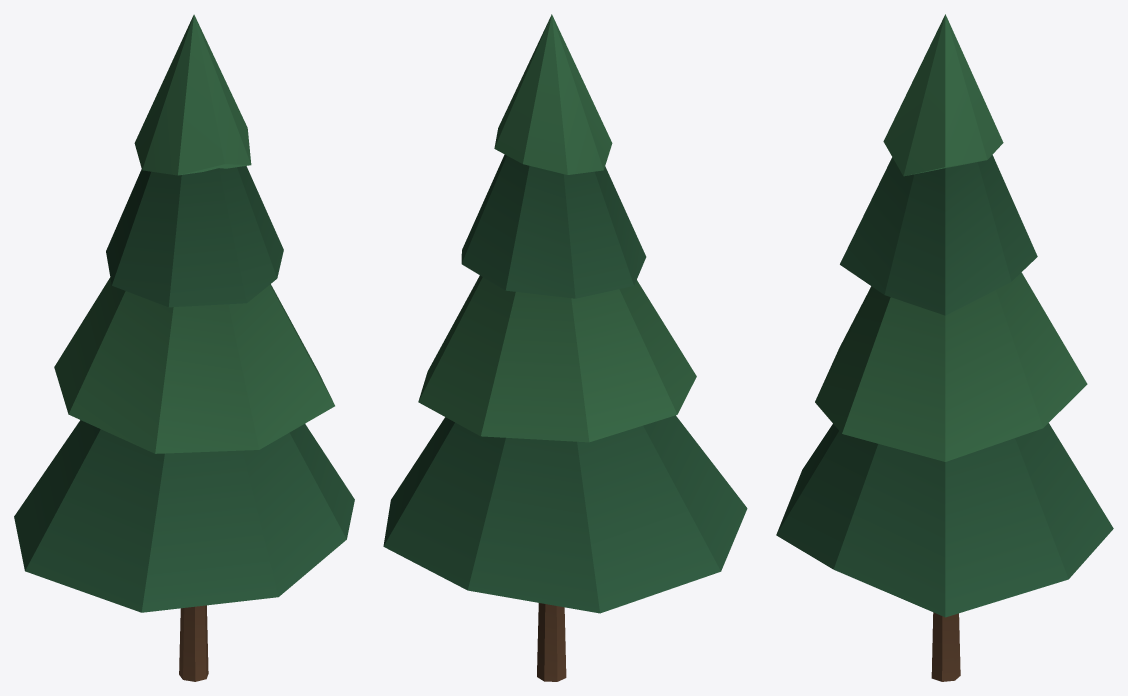
The model's file is arbol-pino-bfr9-0Nb.glb.
3 views of the same model, side by side, from view 1: azimuth 30°, elevation 25°; view 2: azimuth 150°, elevation 25°; view 3: azimuth 270°, elevation 25° (orthographic).
Parts seen in each view (by area): view 1: pino, pino.001, pino.002, pino.003, cilindro; view 2: pino, pino.001, pino.002, pino.003, cilindro; view 3: pino, pino.001, pino.002, pino.003, cilindro.
Part boxes in pixels (x1,y1,x2,y2): pino: (14,420,354,612); pino.001: (54,277,334,453); pino.002: (106,166,283,307); pino.003: (134,14,251,175); cilindro: (179,605,208,681); pino: (383,415,747,613); pino.001: (418,275,696,442); pino.002: (461,154,646,298); pino.003: (494,14,612,174); cilindro: (537,603,566,681); pino: (776,423,1113,617); pino.001: (815,272,1087,461); pino.002: (840,155,1037,315); pino.003: (883,14,1003,176); cilindro: (931,612,960,681).
Size of the model in its own units: 4.02 by 7.7 by 3.56.
